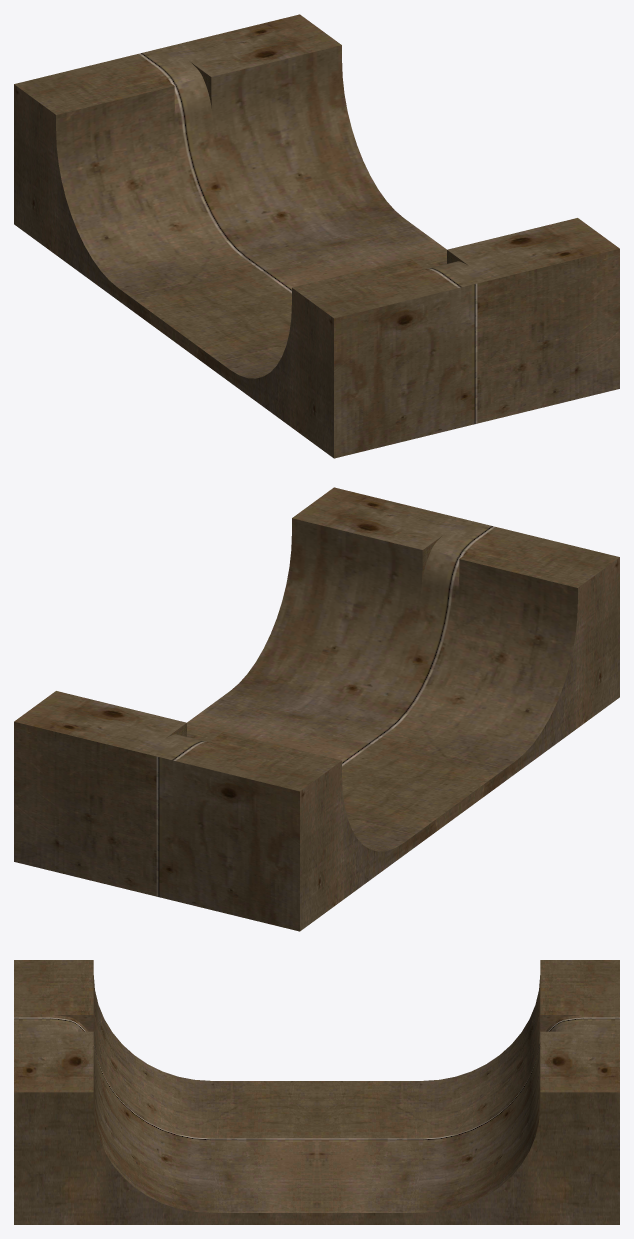
Rendered from ramp 1.fbx.
3 renders of one model, top to bottom at view 1: azimuth 30°, elevation 25°; view 2: azimuth 150°, elevation 25°; view 3: azimuth 270°, elevation 25°, orthographic. The views are drawn at different scales.
Visible parts, largest first — view 1: ramp; view 2: ramp; view 3: ramp.
Part boxes in pixels (x1,y1,x2,y2): ramp: [14, 14, 619, 458]; ramp: [14, 487, 619, 931]; ramp: [14, 960, 619, 1224].
Size of the model in its own units: 23.48 by 11 by 45.53.
